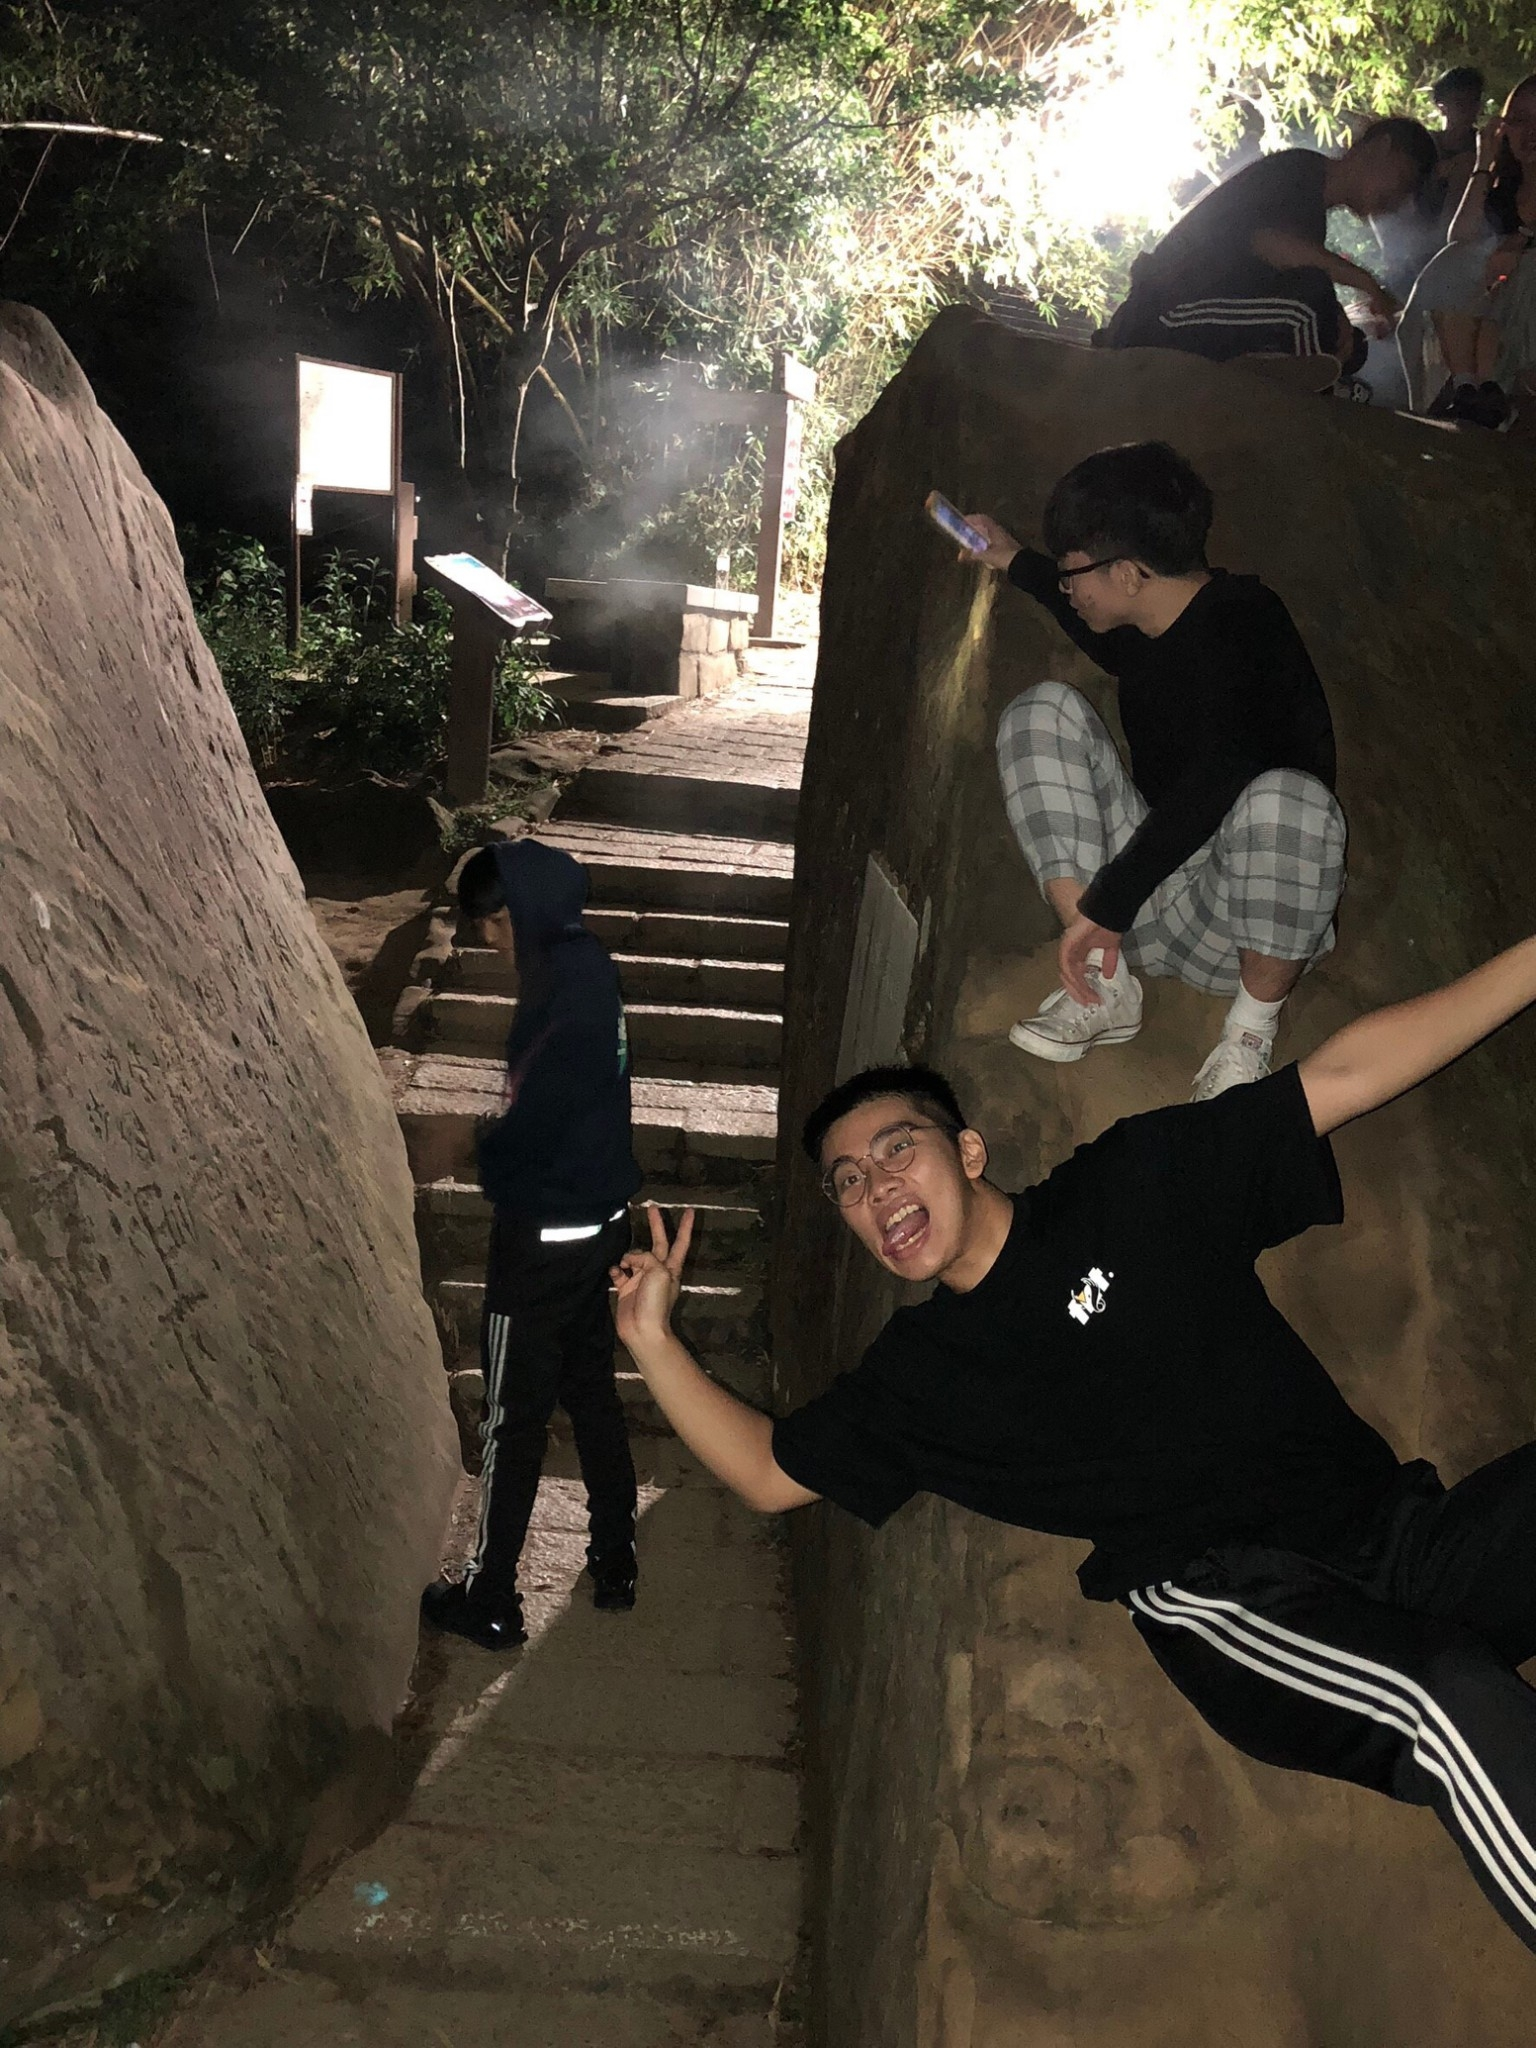people: (818, 1073, 1536, 1870), (450, 841, 663, 1651), (1037, 438, 1308, 1060), (1166, 122, 1418, 418), (1437, 89, 1536, 389)
